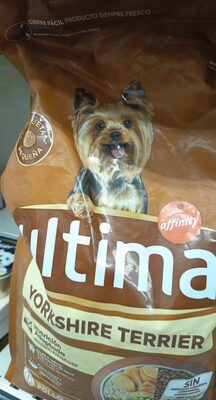perro: (11, 20, 205, 380)
